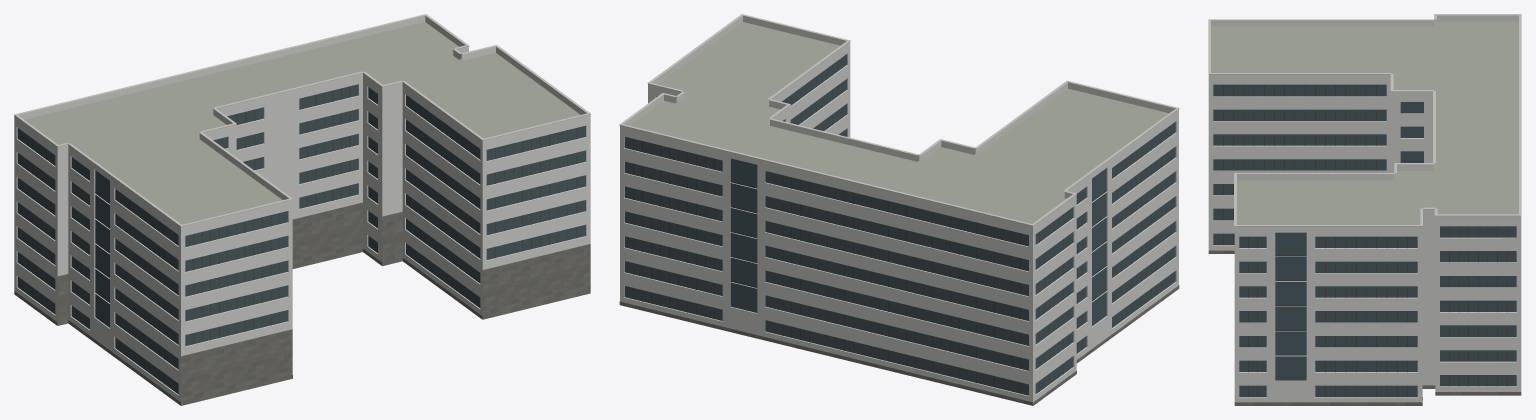
The picture shows the model from 3 angles, left to right: view 1: azimuth 30°, elevation 25°; view 2: azimuth 150°, elevation 25°; view 3: azimuth 270°, elevation 25°; orthographic projection.
Parts seen in each view (by area): view 1: politics__wall, politics__glass, politics__roof, politics__base, politics__parapet, politics__frame, politics__trim; view 2: politics__wall, politics__glass, politics__roof, politics__parapet, politics__frame, politics__trim, politics__base; view 3: politics__wall, politics__roof, politics__glass, politics__parapet, politics__trim, politics__frame, politics__base.
Part boxes in pixels (x1,y1,x2,y2): politics__wall: (14,78,590,401); politics__glass: (17,84,585,394); politics__roof: (24,22,580,224); politics__base: (14,202,590,405); politics__parapet: (14,15,590,232); politics__frame: (22,86,577,391); politics__trim: (14,14,590,226); politics__wall: (620,47,1178,405); politics__glass: (624,54,1175,395); politics__roof: (630,22,1168,223); politics__parapet: (620,15,1178,231); politics__frame: (633,57,1171,393); politics__trim: (619,14,1179,226); politics__base: (619,285,1179,405); politics__wall: (1208,80,1521,402); politics__roof: (1211,21,1518,224); politics__glass: (1213,84,1516,396); politics__parapet: (1208,15,1521,232); politics__trim: (1208,14,1521,226); politics__frame: (1223,84,1507,396); politics__base: (1208,250,1521,405).
Size of the model in its own units: 64.18 by 25.42 by 40.11.
Materials: 7 (1 with a texture image).
